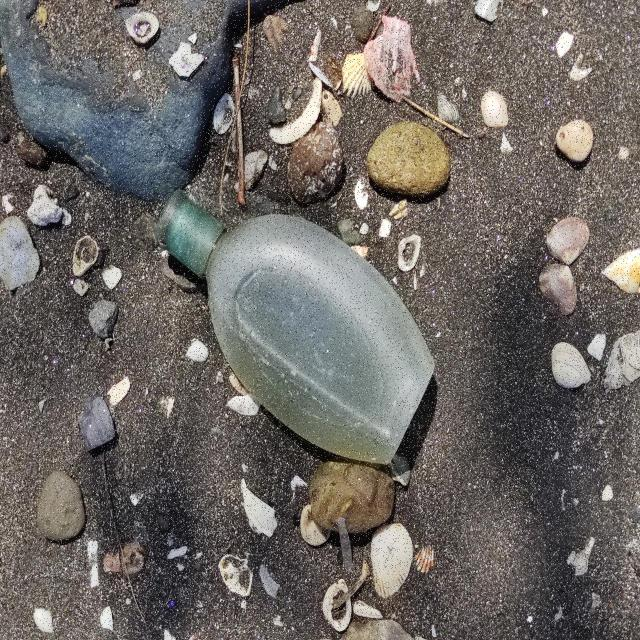plastic_waste: (156, 192, 436, 466)
